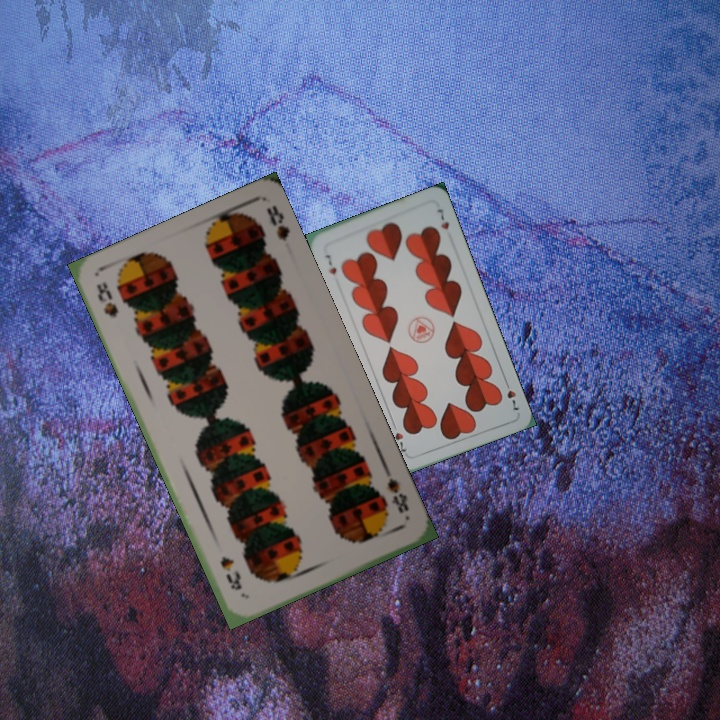H7: (500, 376, 522, 413), (321, 250, 339, 277)
S8: (381, 466, 411, 516), (92, 277, 121, 321)
